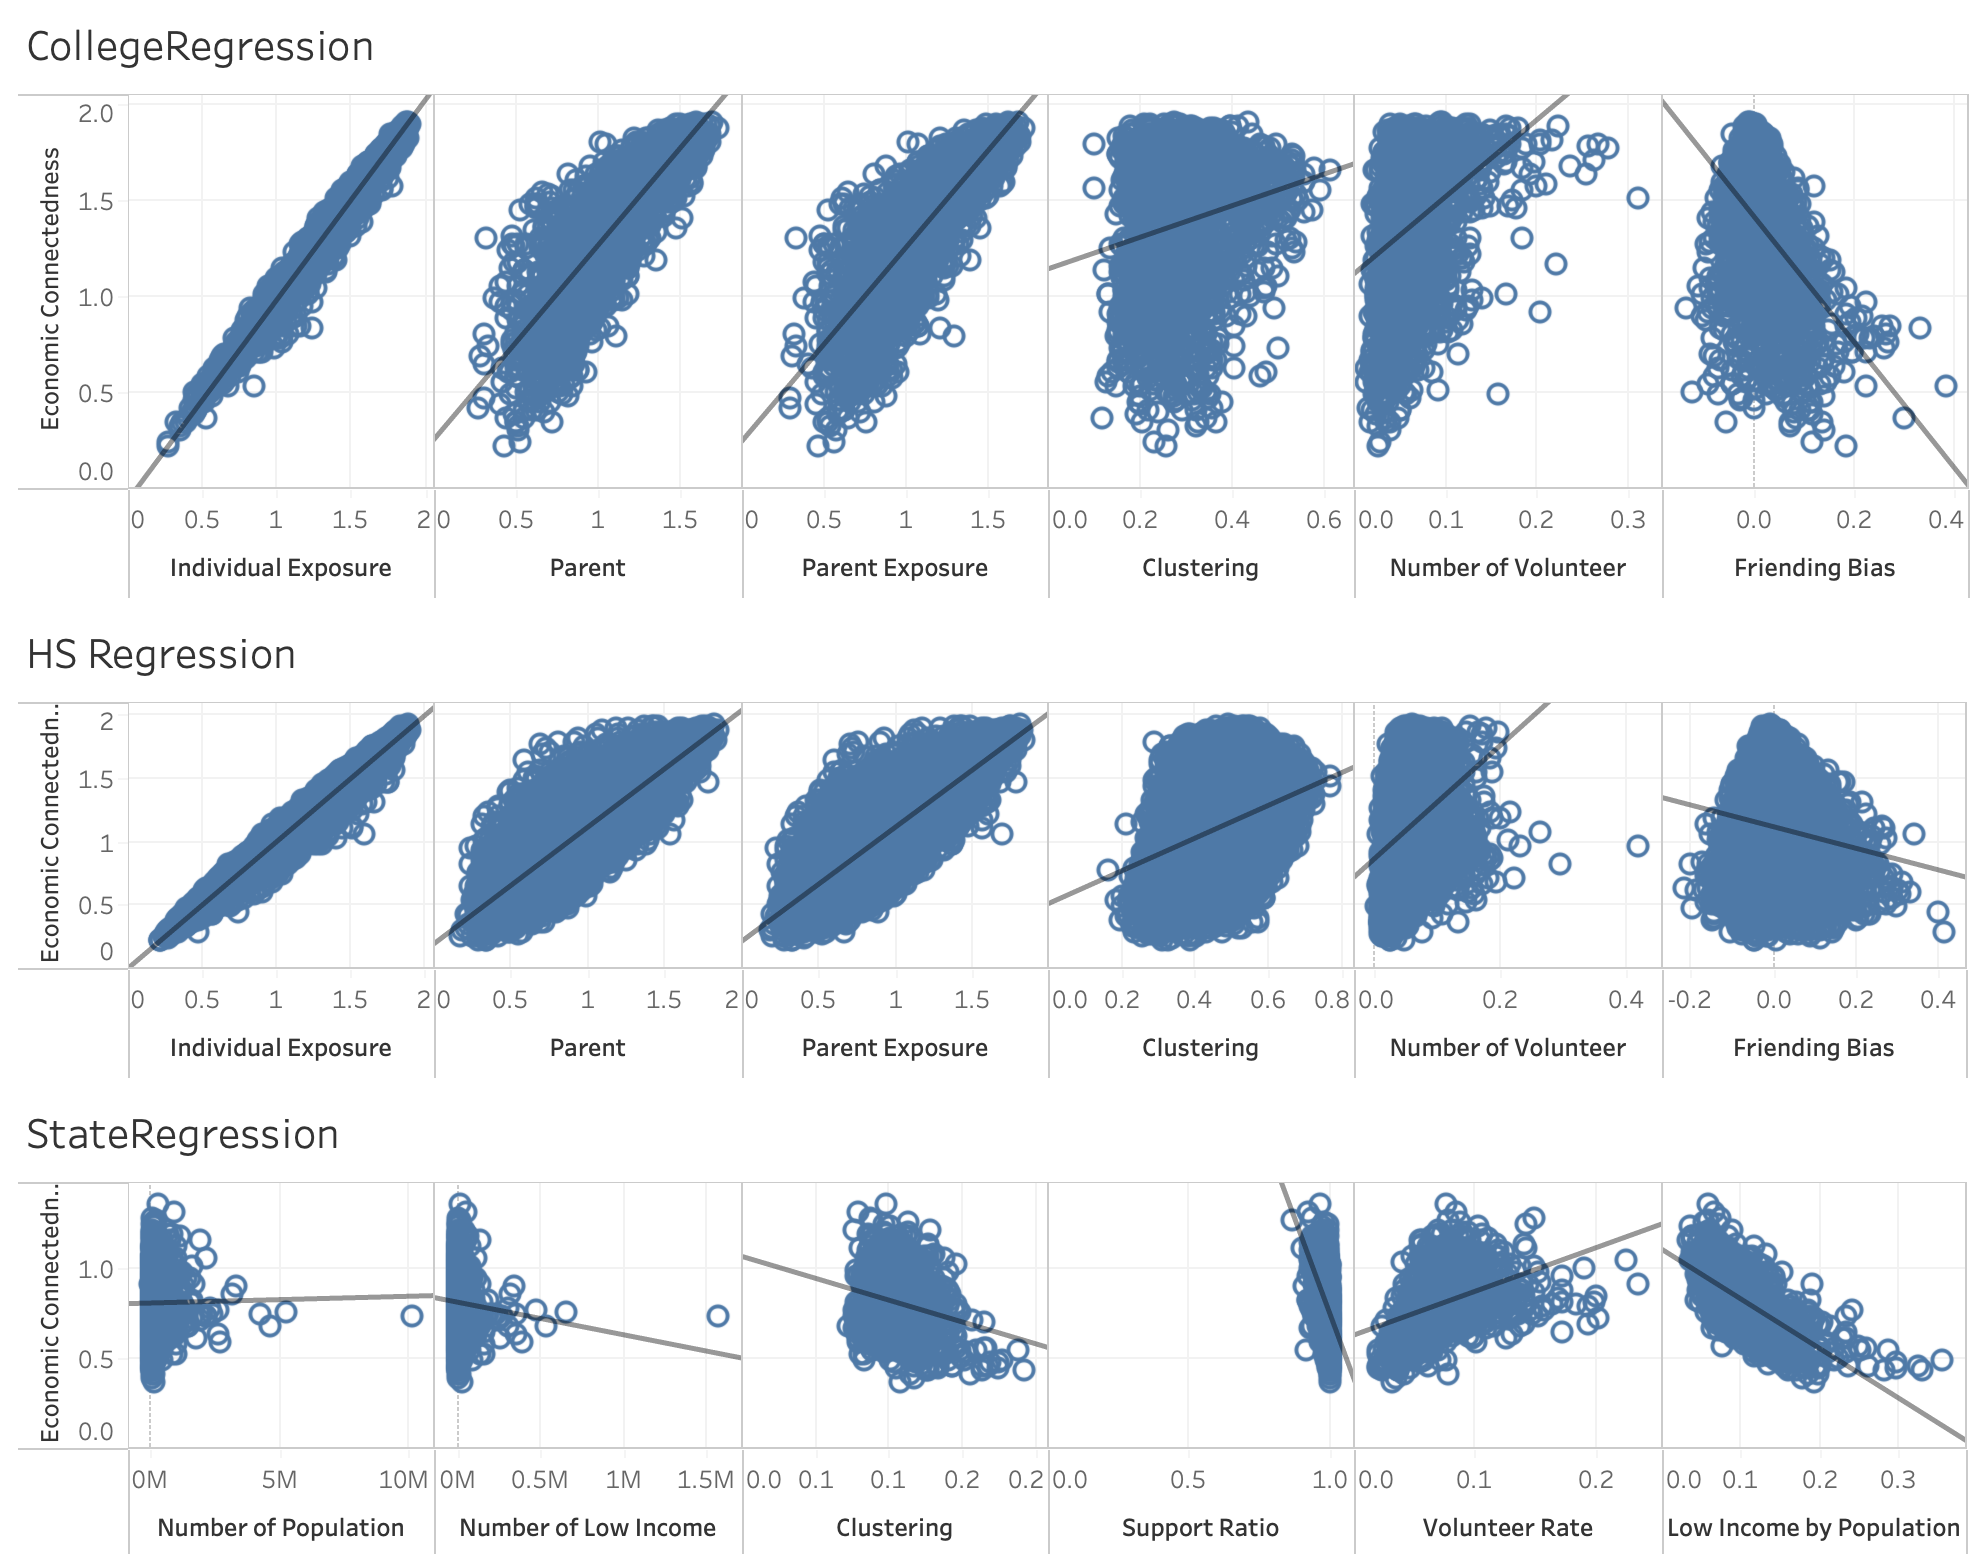

This screenshot's page, from the dashboard's own definition file:
{"tool":"tableau","page":{"name":"Regression Dashboard","canvas":[1000,800],"ordinal":3},"visuals":[{"type":"worksheet","title":"CollegeRegression","mark":"Automatic","rows":["ec_own_ses_college"],"cols":["exposure_own_ses_college","ec_parent_ses_college","exposure_parent_ses_college","clustering_college","volunteering_rate_college","bias_own_ses_college"],"box":[8,8,984,304]},{"type":"worksheet","title":"HS Regression","mark":"Automatic","rows":["ec_own_ses_hs"],"cols":["exposure_own_ses_hs","ec_parent_ses_hs","exposure_parent_ses_hs","clustering_hs","volunteering_rate_hs","bias_own_ses_hs"],"box":[8,312,984,240]},{"type":"worksheet","title":"StateRegression","mark":"Automatic","rows":["ec_county"],"cols":["pop2018","num_below_p50","clustering_county","support_ratio_county","volunteering_rate_county","Calculation_187603124918697985"],"box":[8,552,984,240]}]}

Visuals, with their boxes in screenshot pixels (x1, y1, x2, y2), scaled from the page's 1000x800 canvas onto the 1980x1554 screenshot:
"CollegeRegression" worksheet: left=16, top=16, right=1964, bottom=606
"HS Regression" worksheet: left=16, top=606, right=1964, bottom=1072
"StateRegression" worksheet: left=16, top=1072, right=1964, bottom=1538
